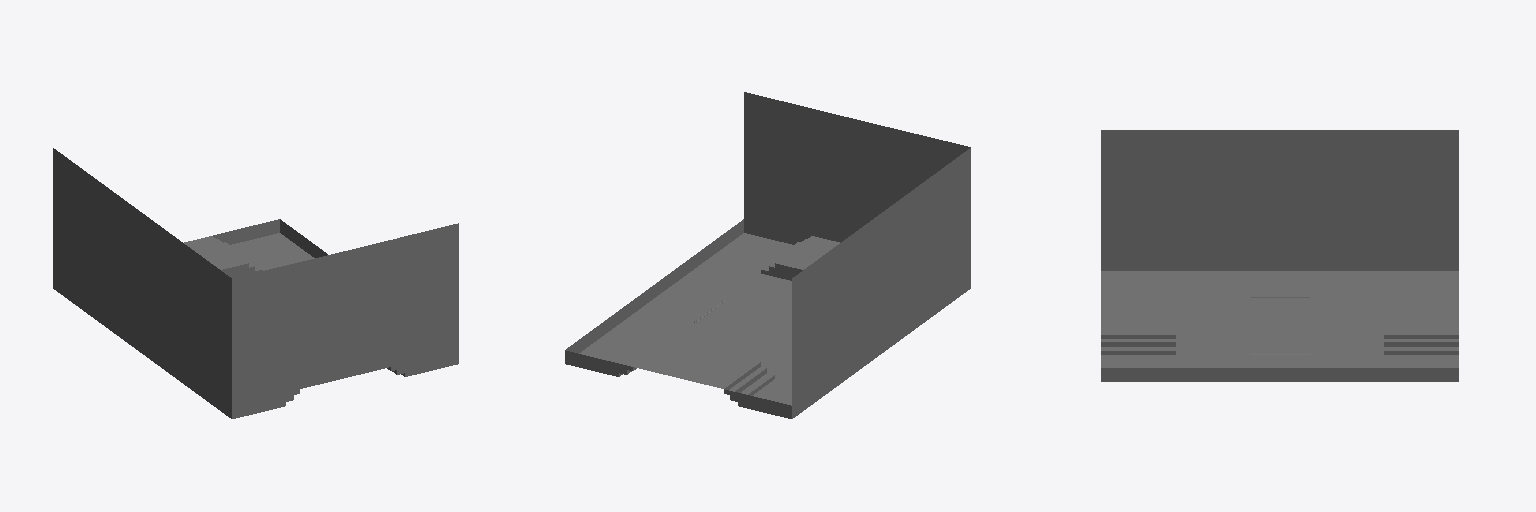
The model's file is GwallsandGrails.obj.
3 views of the same model, side by side, from view 1: azimuth 30°, elevation 25°; view 2: azimuth 150°, elevation 25°; view 3: azimuth 270°, elevation 25° (orthographic).
Visible parts, largest first — view 1: pPlane1; view 2: pPlane1; view 3: pPlane1.
Boxes of the visible parts, box(x1,y1,x2,y2) form: pPlane1: box(53, 148, 458, 418); pPlane1: box(565, 92, 970, 418); pPlane1: box(1101, 130, 1458, 381).
Size of the model in its own units: 9.42 by 5.61 by 12.86.